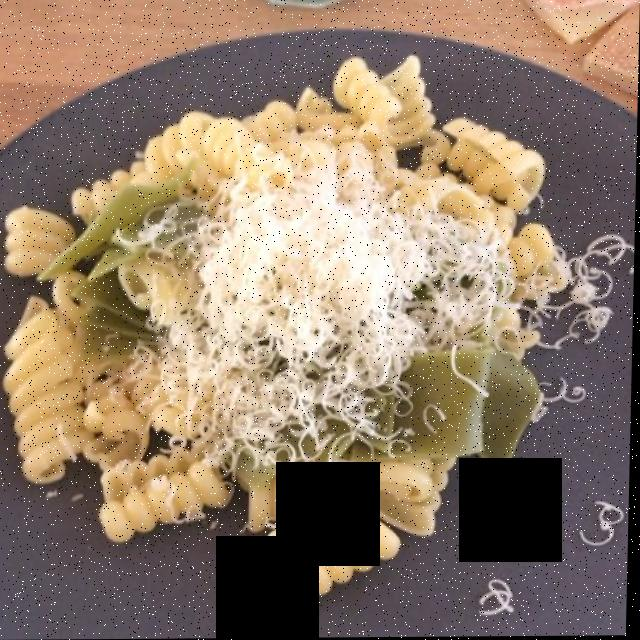gruyere: (114, 162, 607, 469)
pasta: (8, 65, 579, 594)
